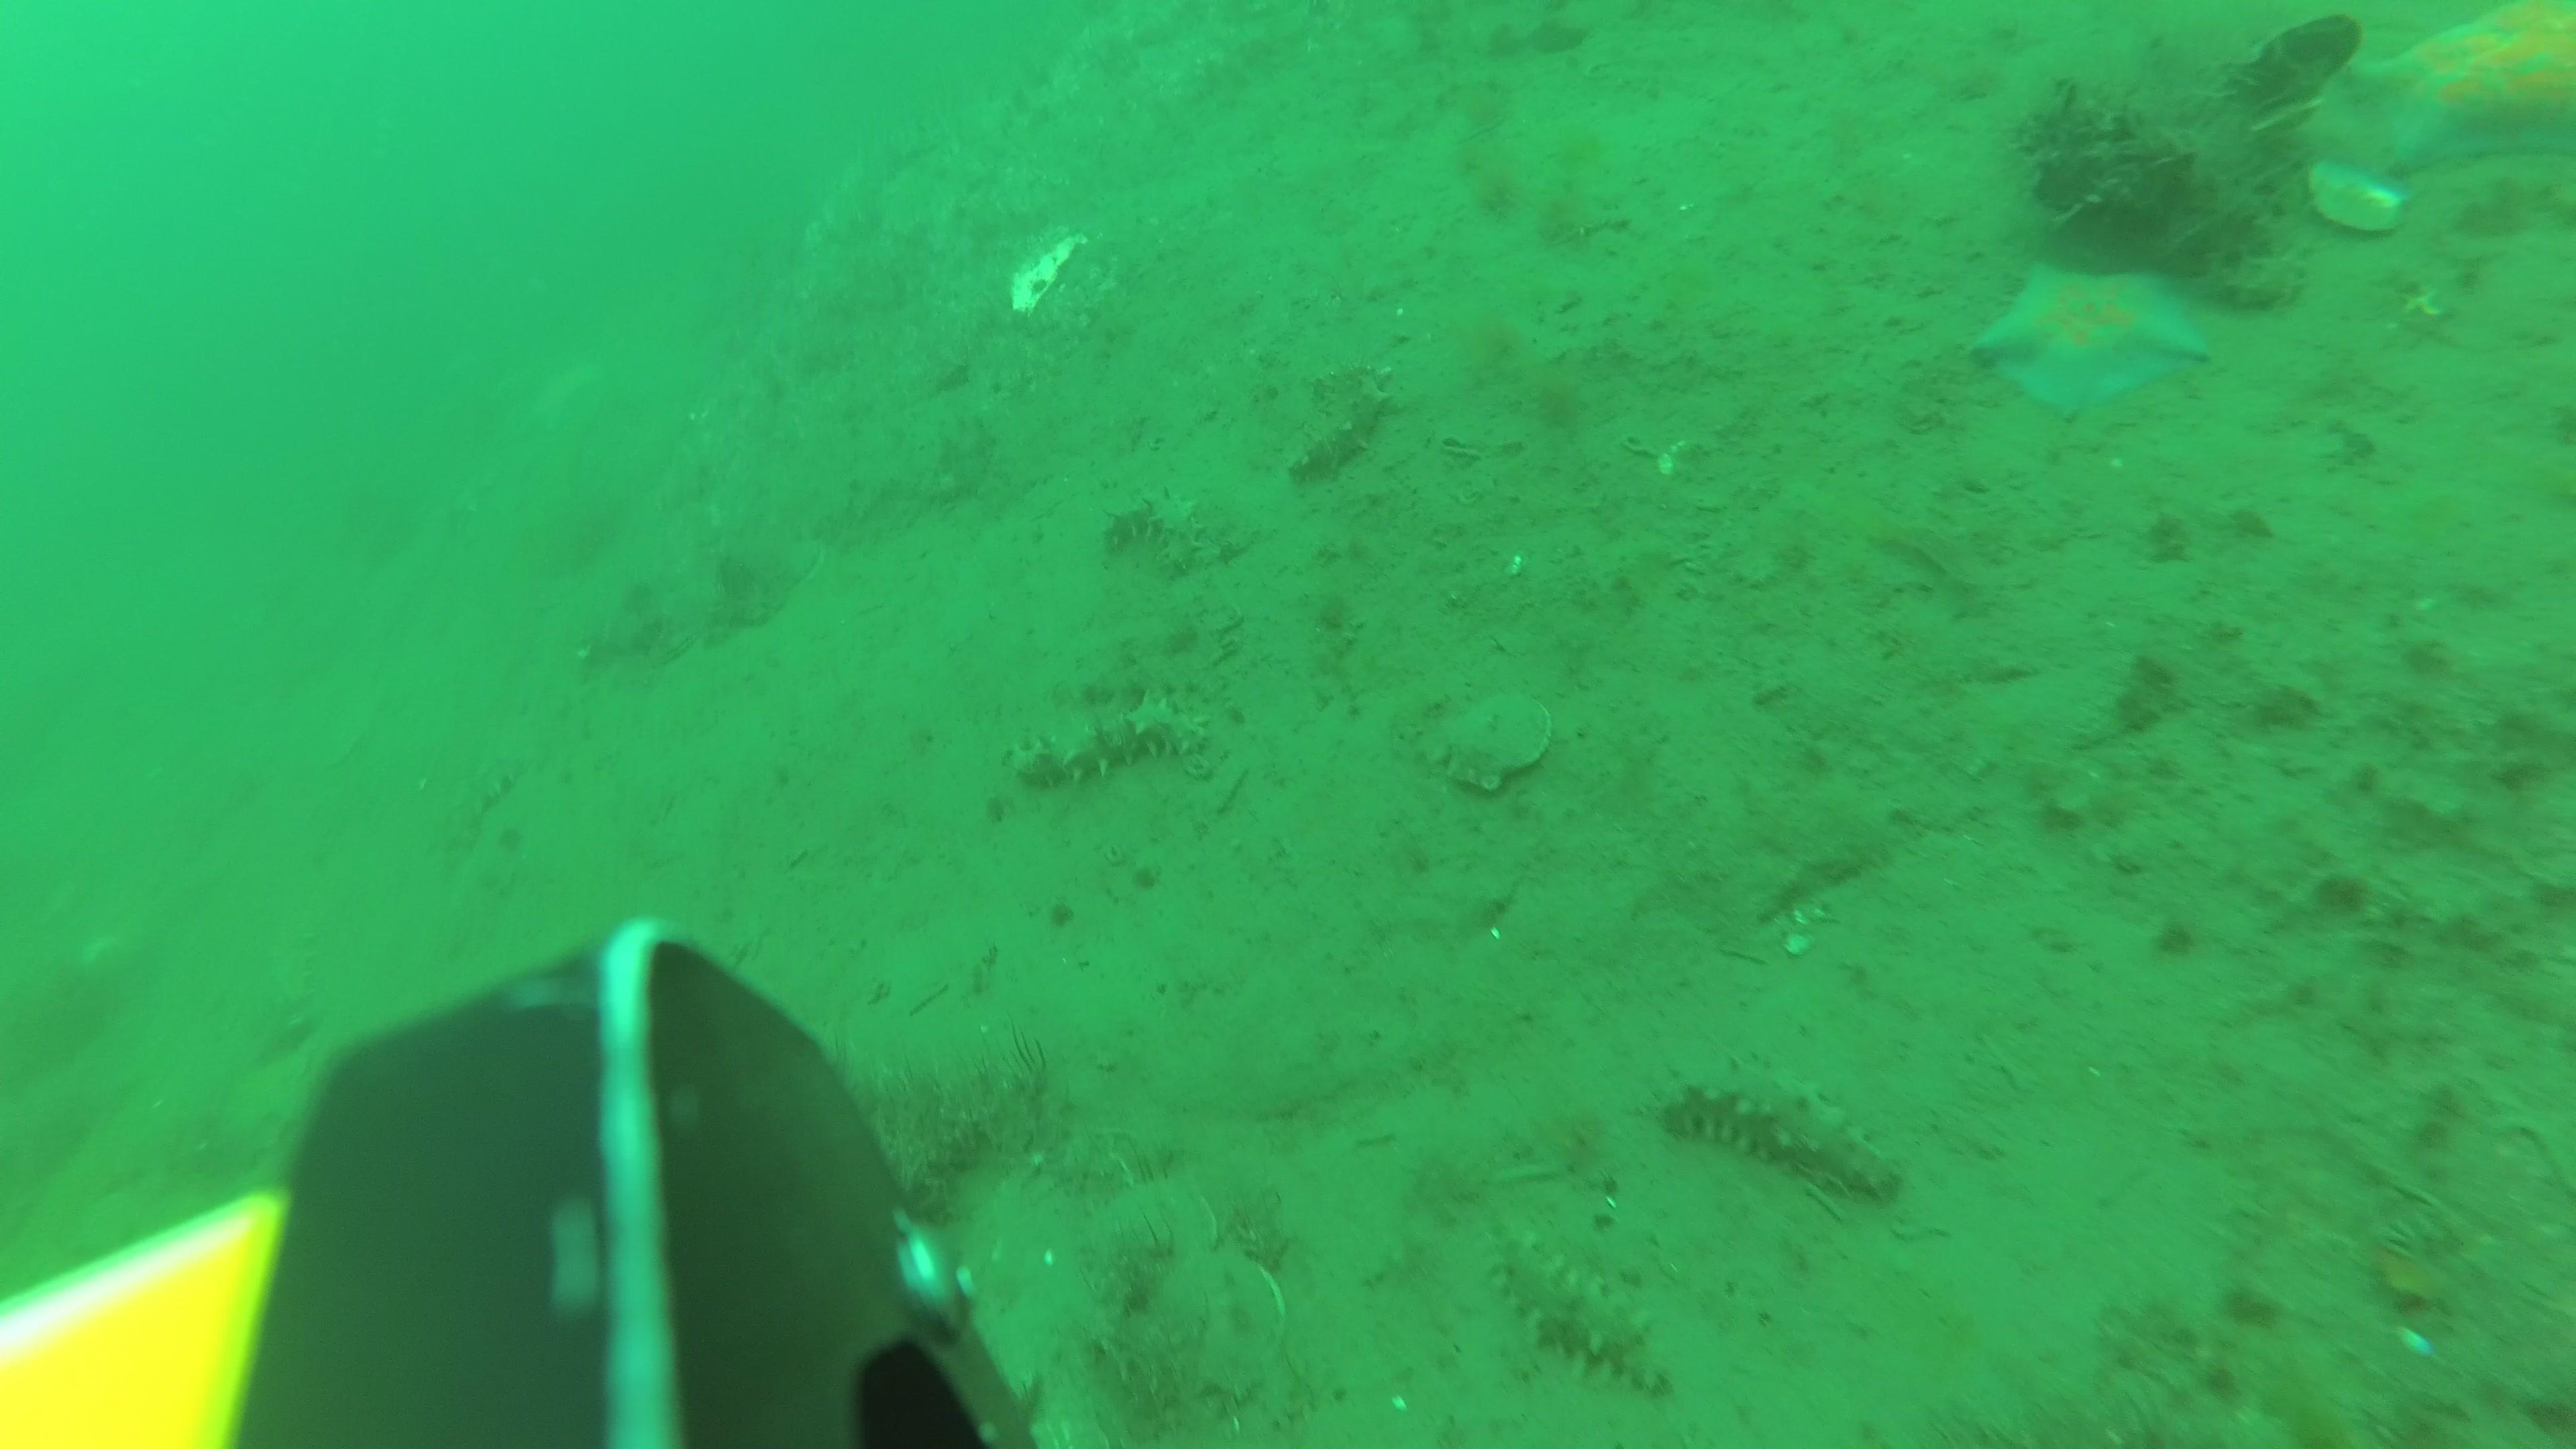holothurian: (1661, 1056, 1898, 1200), (1495, 1233, 1672, 1394), (1016, 697, 1201, 793), (1290, 356, 1391, 478), (437, 752, 522, 869), (1111, 492, 1203, 579), (262, 920, 322, 1049)
scallop: (1148, 1249, 1290, 1401), (1093, 1180, 1219, 1297), (2245, 11, 2365, 108), (1445, 688, 1550, 793), (2302, 159, 2413, 235)
starfish: (2342, 0, 2576, 168), (1974, 265, 2213, 421)
